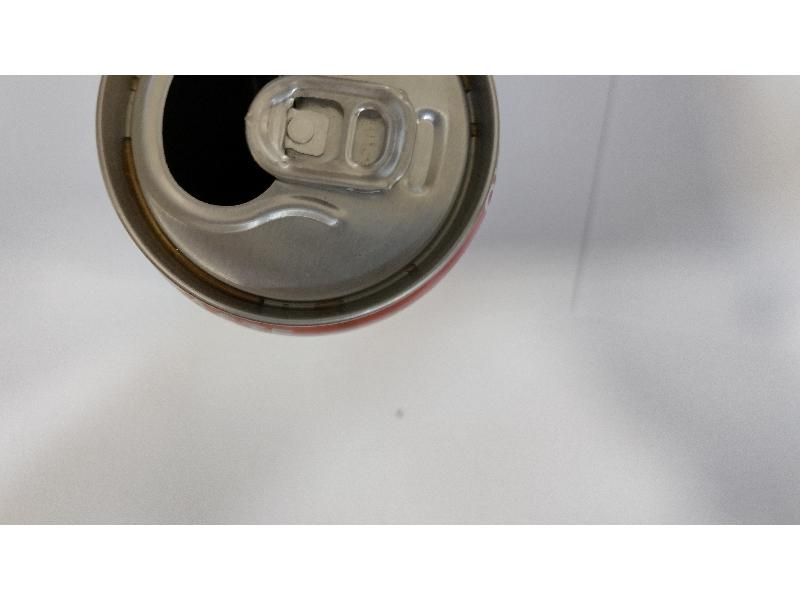can: (99, 78, 504, 340)
